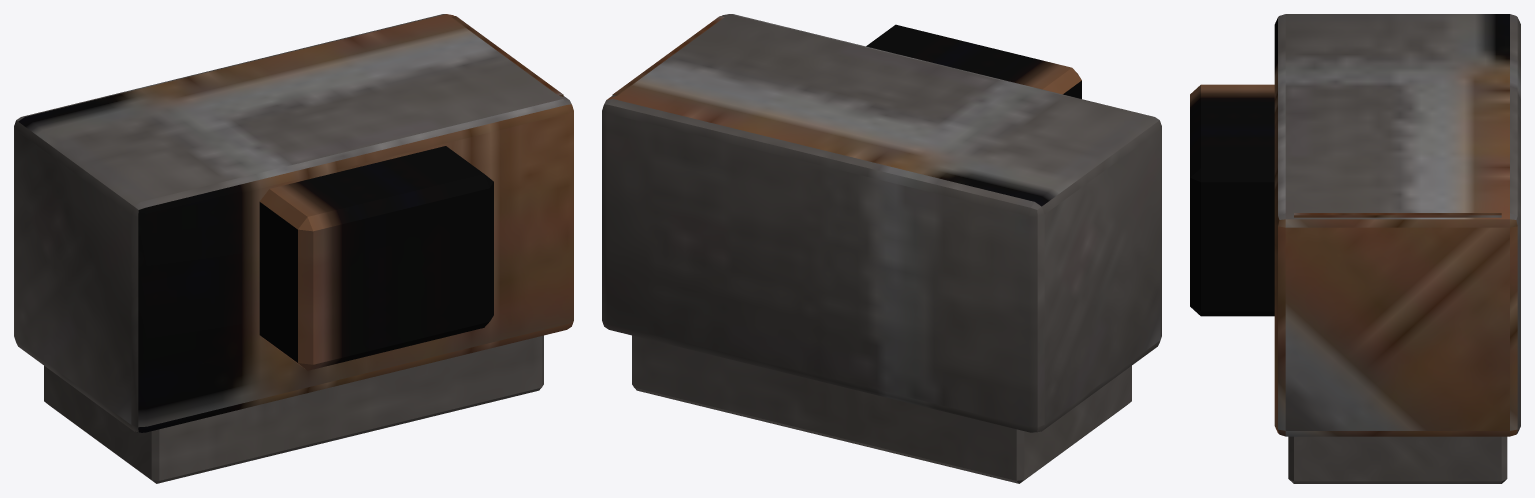
File: tallow_holo.glb
The picture shows the model from 3 angles, left to right: view 1: azimuth 30°, elevation 25°; view 2: azimuth 150°, elevation 25°; view 3: azimuth 270°, elevation 25°; orthographic projection. The views are drawn at different scales.
Parts seen in each view (by area): view 1: tallow_holo; view 2: tallow_holo; view 3: tallow_holo.
Boxes of the visible parts, <box> form: tallow_holo: <box>14,14,573,483</box>; tallow_holo: <box>602,14,1161,483</box>; tallow_holo: <box>1190,14,1520,483</box>.
Size of the model in its own units: 0.09 by 0.0565 by 0.0605.
1 material, 1 textured.
